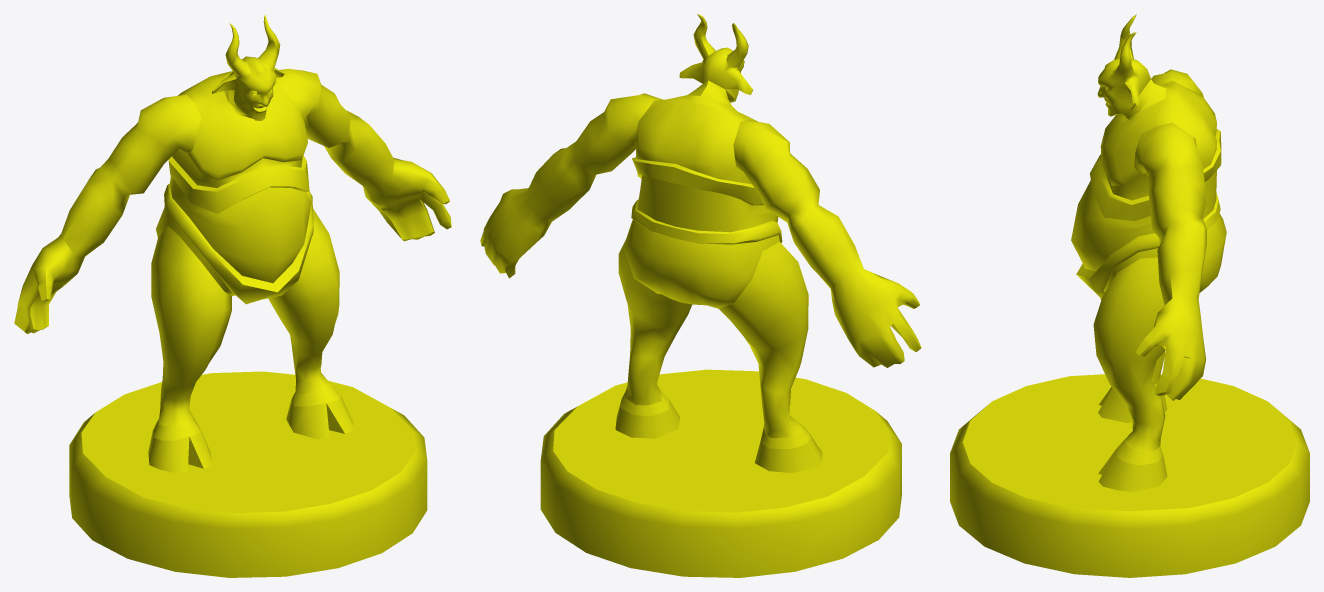
Rendered from Ogre.glb.
The picture shows the model from 3 angles, left to right: view 1: azimuth 30°, elevation 25°; view 2: azimuth 150°, elevation 25°; view 3: azimuth 270°, elevation 25°; orthographic projection.
Parts seen in each view (by area): view 1: character_baseMesh_v1, pCylinder1; view 2: character_baseMesh_v1, pCylinder1; view 3: pCylinder1, character_baseMesh_v1.
Part boxes in pixels (x1,y1,x2,y2): character_baseMesh_v1: [14, 14, 451, 473]; pCylinder1: [69, 371, 427, 577]; character_baseMesh_v1: [480, 14, 921, 472]; pCylinder1: [540, 369, 901, 577]; pCylinder1: [950, 374, 1309, 577]; character_baseMesh_v1: [1071, 14, 1226, 491].
Size of the model in its own units: 6.43 by 6.77 by 4.6.
2 materials, 2 textured.
